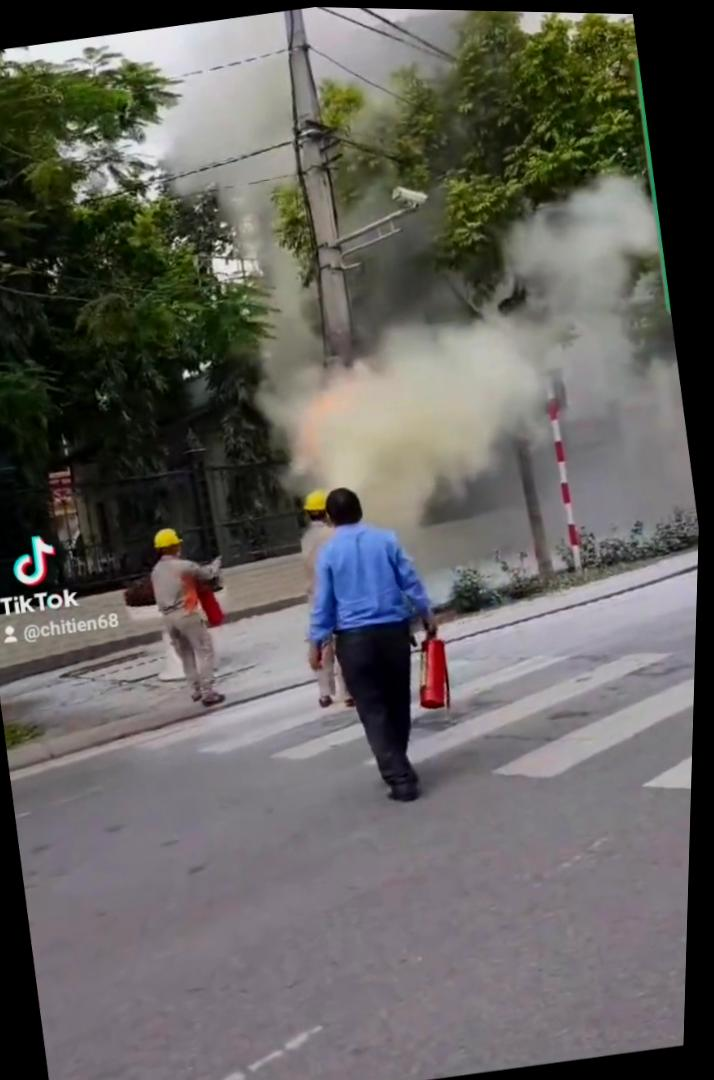FireExtinguisher: (414, 619, 471, 719), (191, 546, 248, 626)
